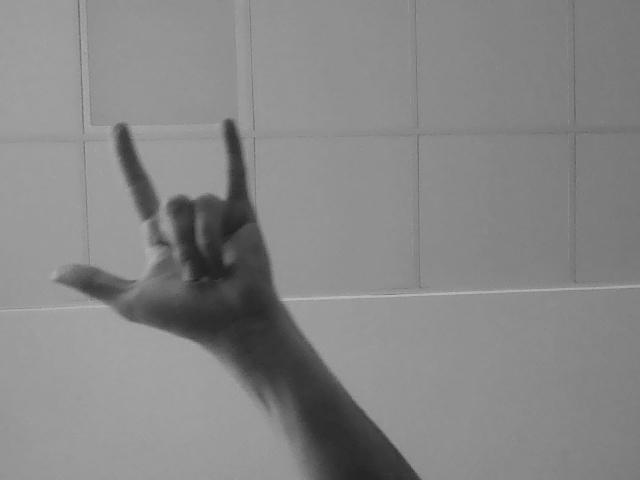I_Love_You: (46, 116, 318, 328)
